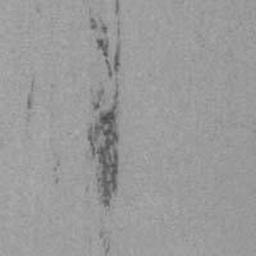Inclusion: (84, 8, 122, 211), (97, 229, 113, 255), (27, 76, 37, 111), (114, 0, 122, 15), (116, 20, 122, 40), (54, 175, 60, 186), (54, 157, 61, 166), (84, 186, 90, 196)
